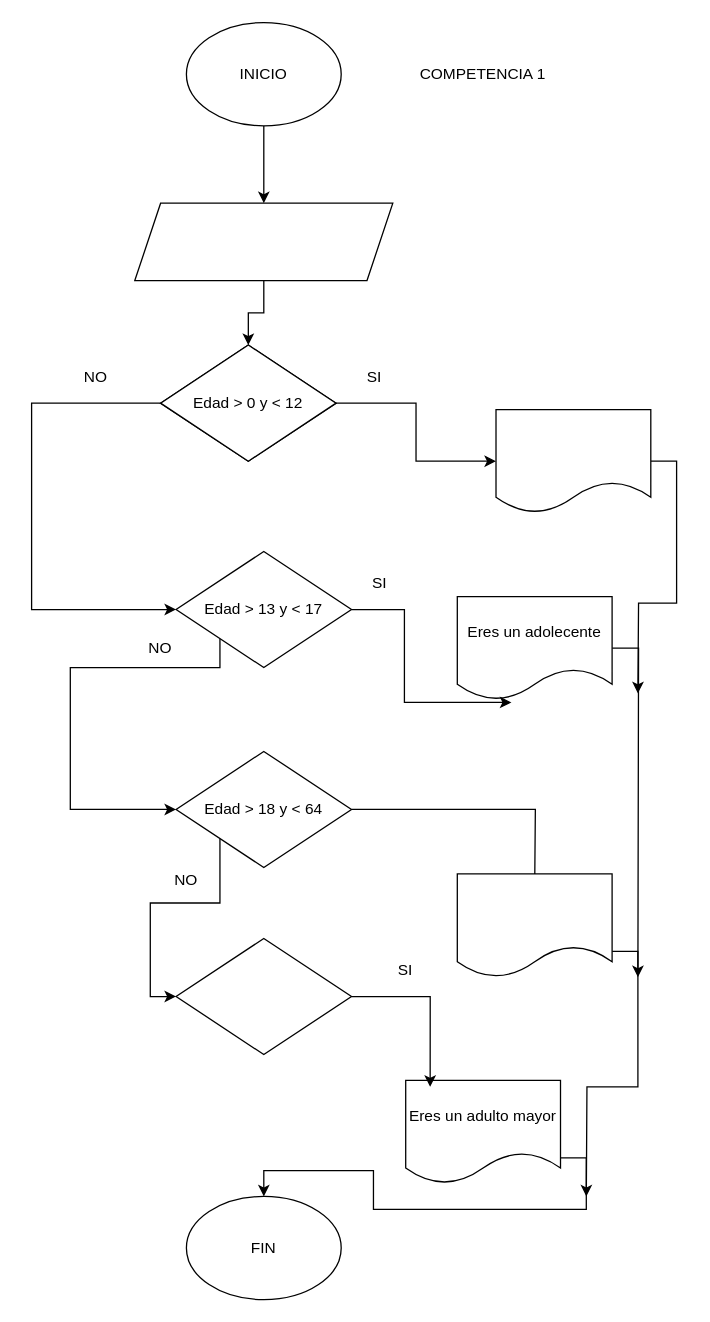
Some shapes in this 710 by 1322 pixel diagram are drawn without their labels. The shapes that lost their labels are listed below. From the top down, each one's box as (x1, y1, x2, y2) in pixels, then its label:
(134, 202, 393, 281): Ingresar edad
(495, 408, 651, 513): Eres un niño
(456, 873, 612, 977): Eres un adulto
(175, 937, 352, 1055): Edad > 65
